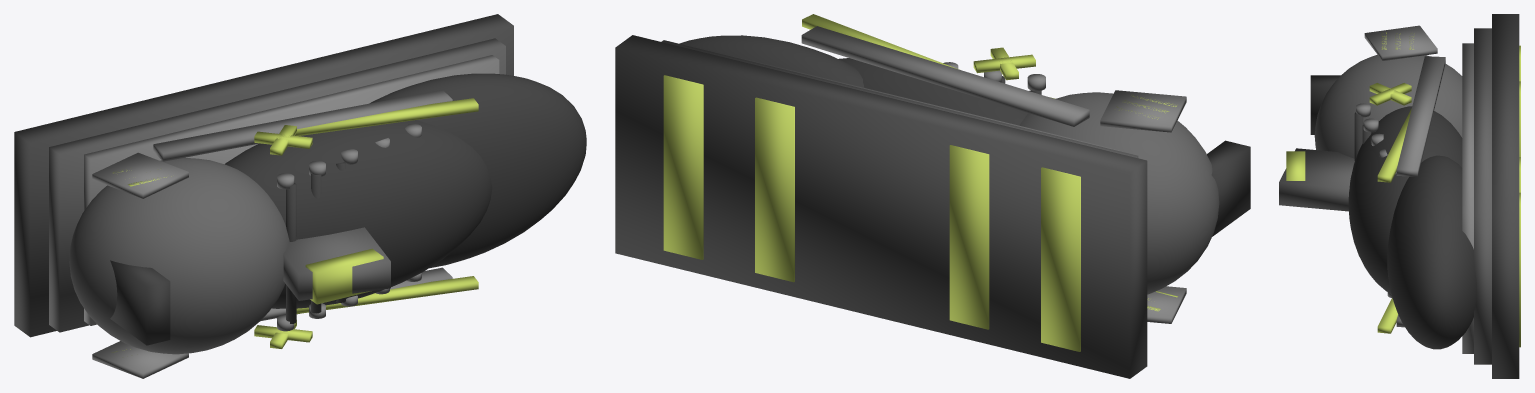
The model's file is producto.glb.
The picture shows the model from 3 angles, left to right: view 1: azimuth 30°, elevation 25°; view 2: azimuth 150°, elevation 25°; view 3: azimuth 270°, elevation 25°; orthographic projection. The views are drawn at different scales.
Visible parts, largest first — view 1: world; view 2: world; view 3: world.
Part boxes in pixels (left/top/right/bottom): world: left=14, top=14, right=586, bottom=378; world: left=615, top=14, right=1250, bottom=378; world: left=1279, top=14, right=1520, bottom=378.
Bounding box in the file's own units: 4.87 × 1.77 × 2.29.
